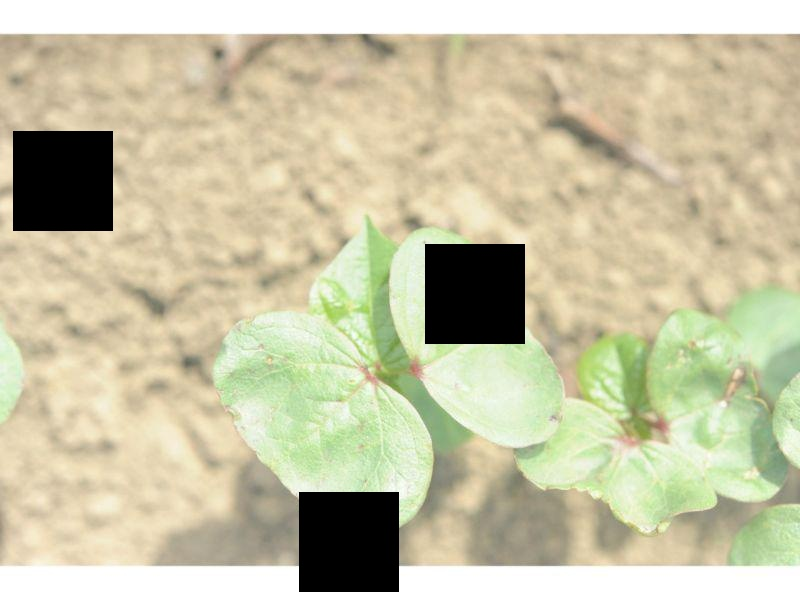cotton: (213, 212, 563, 536), (515, 288, 800, 535)
